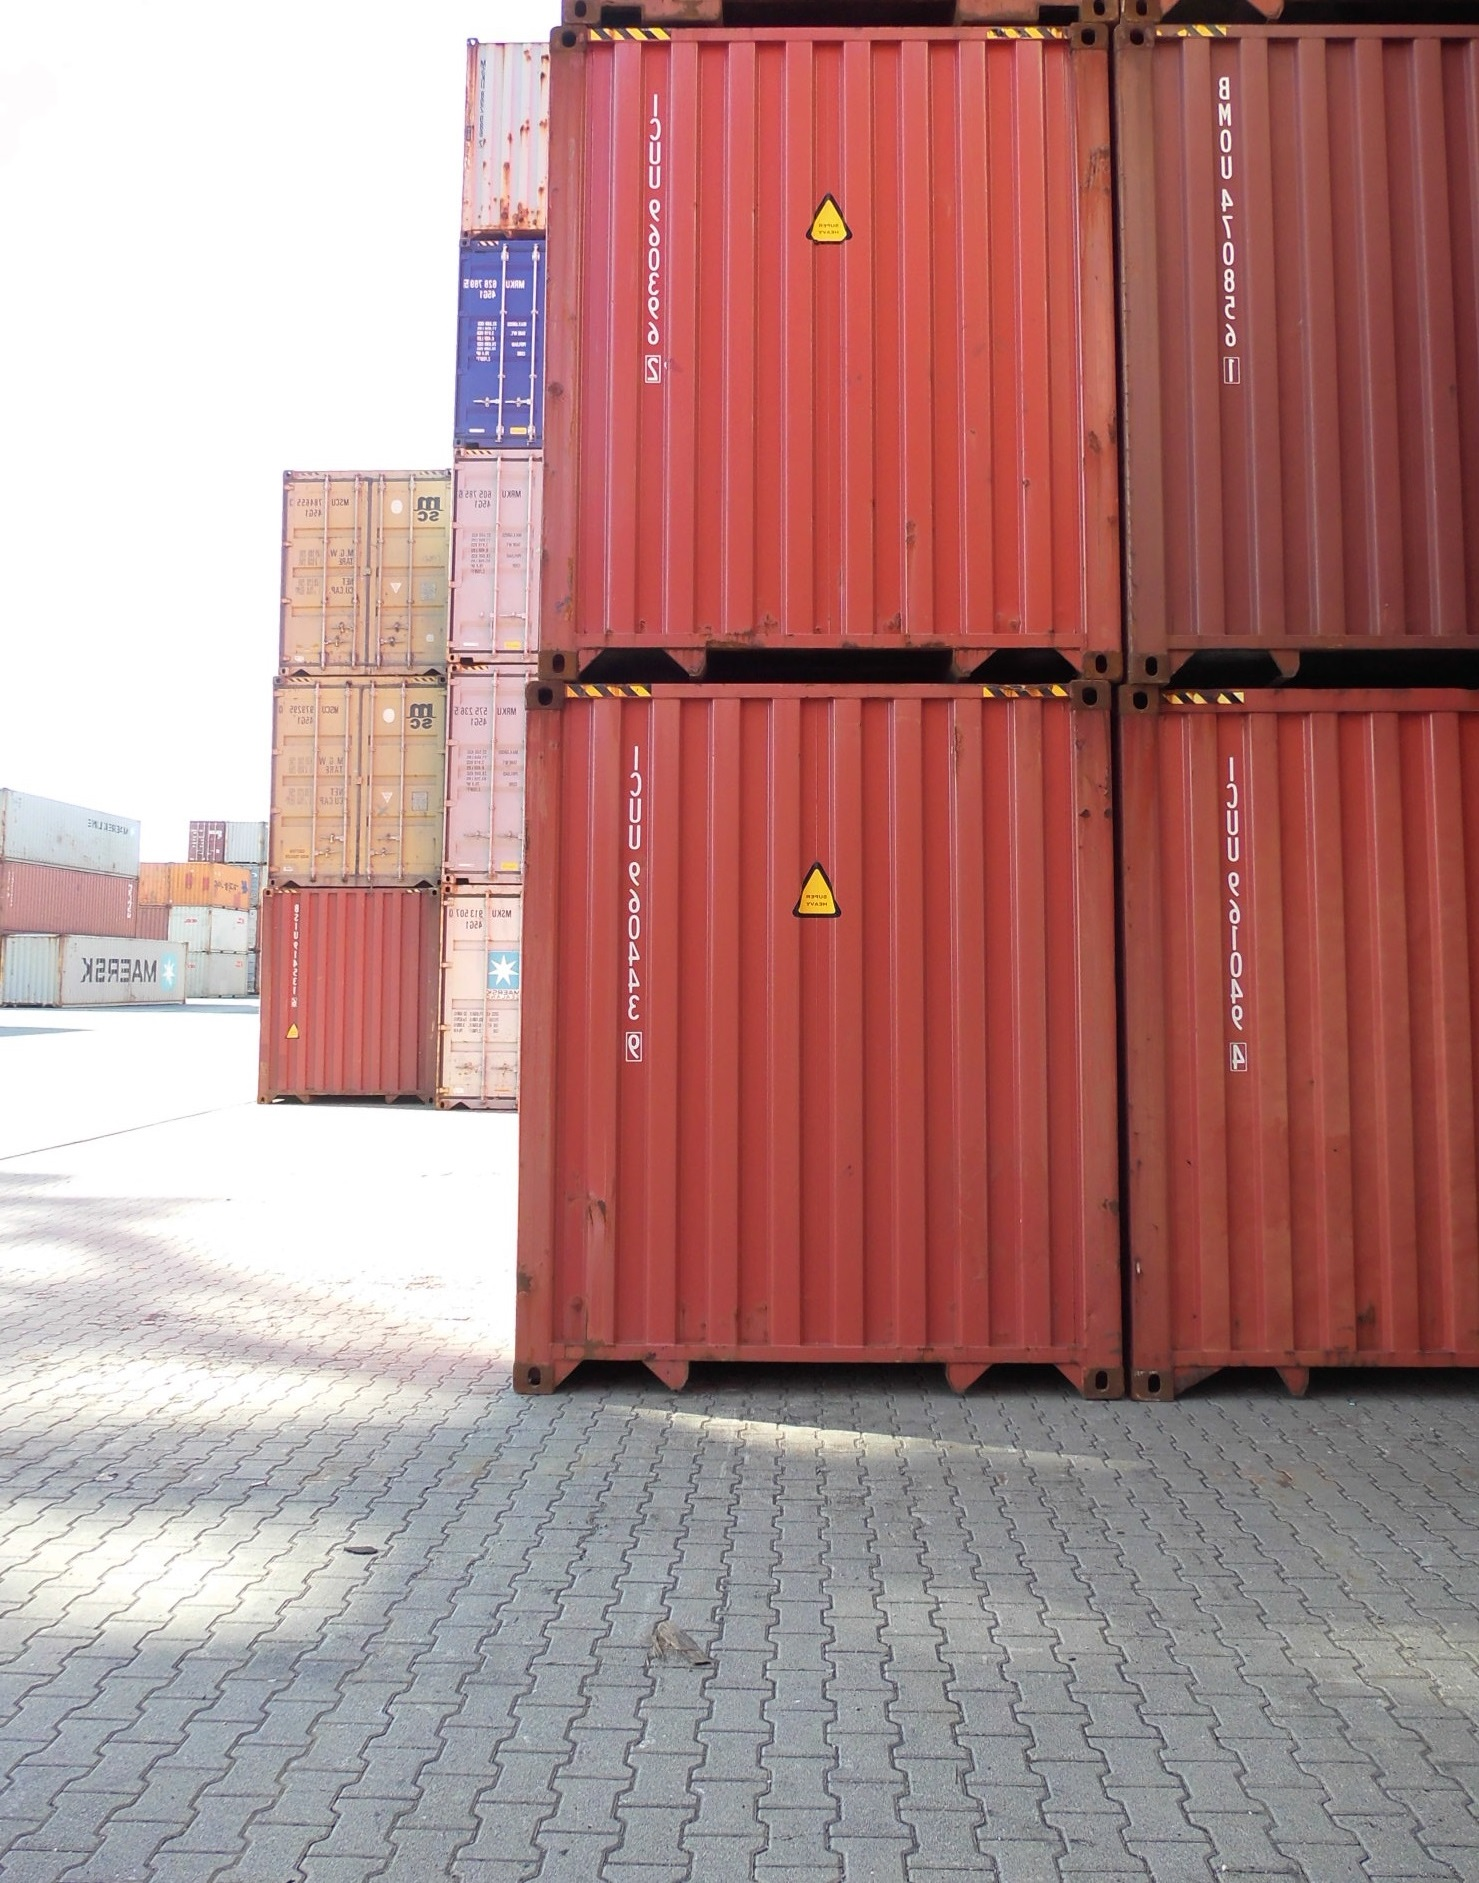container_door: (273, 468, 451, 672), (272, 672, 448, 877), (452, 449, 552, 671), (455, 237, 553, 459), (434, 666, 532, 888), (437, 890, 535, 1111)
container_no_door: (532, 676, 1126, 1395), (535, 24, 1109, 669), (1131, 682, 1479, 1389), (1118, 15, 1479, 679), (252, 882, 439, 1104), (460, 40, 553, 234)
